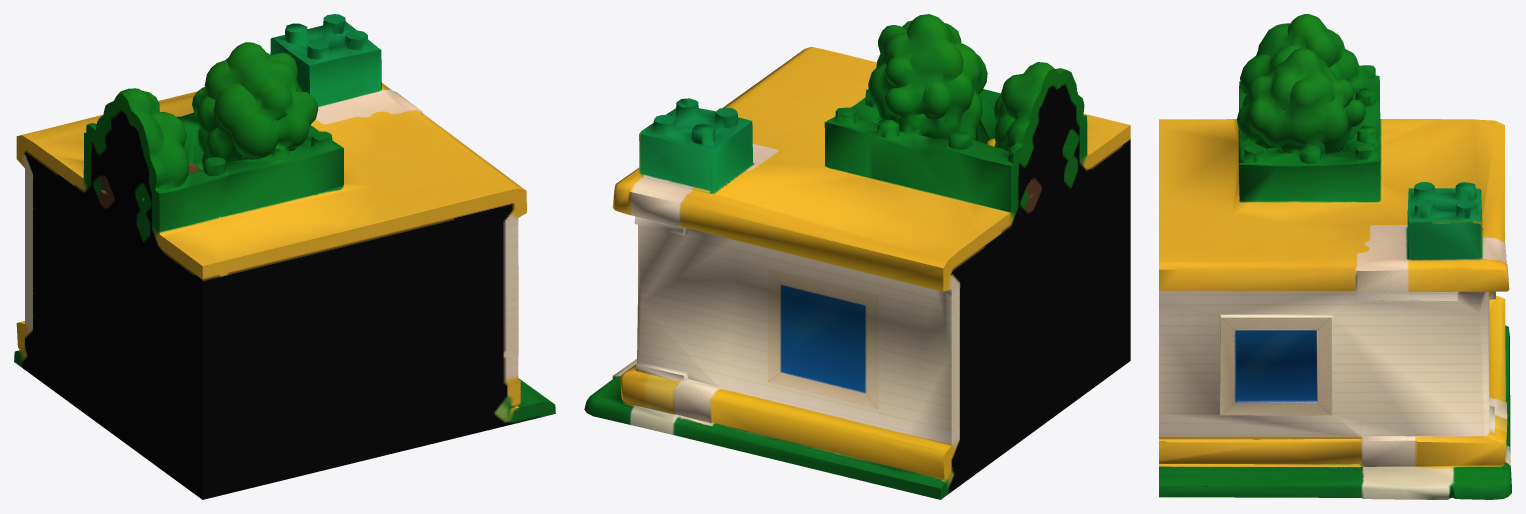
Rendered from 16-topper-back-right.fbx.
3 views of the same model, side by side, from view 1: azimuth 30°, elevation 25°; view 2: azimuth 150°, elevation 25°; view 3: azimuth 270°, elevation 25° (orthographic). The views are drawn at different scales.
Parts seen in each view (by area): view 1: topper-back-right; view 2: topper-back-right; view 3: topper-back-right.
Boxes of the visible parts, x1,y1,x2,y2 form: topper-back-right: [14, 14, 555, 499]; topper-back-right: [584, 14, 1130, 499]; topper-back-right: [1159, 14, 1511, 499].
Bounding box in the file's own units: 8975 × 8809 × 8211.
Materials: 1 (1 with a texture image).
